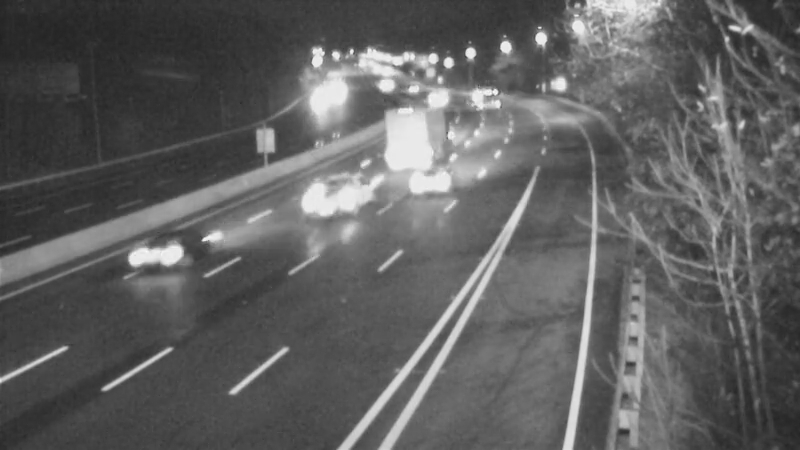vehicle: (397, 141, 477, 221), (290, 152, 370, 232), (114, 214, 194, 294), (360, 60, 410, 110), (385, 63, 435, 113), (459, 70, 509, 120), (408, 75, 458, 125), (386, 109, 436, 159), (293, 76, 343, 126)
